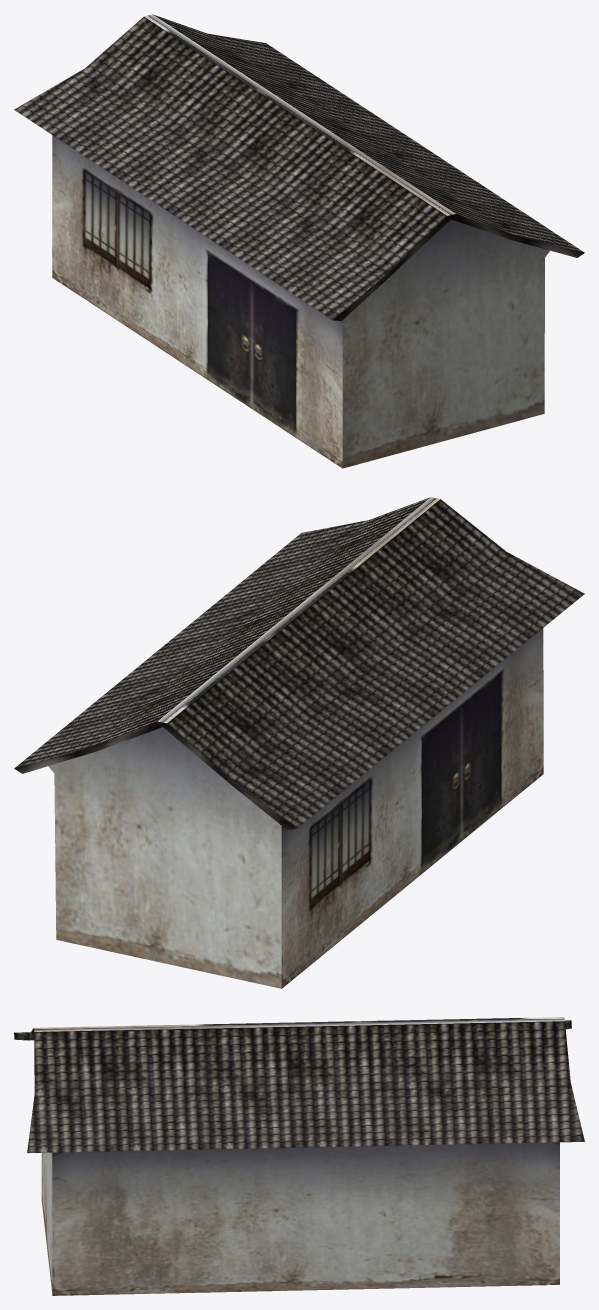
The model's file is ian1611.obj.
3 views of the same model, one above another, from view 1: azimuth 30°, elevation 25°; view 2: azimuth 150°, elevation 25°; view 3: azimuth 270°, elevation 25° (orthographic). The views are drawn at different scales.
Parts seen in each view (by area): view 1: ian1611; view 2: ian1611; view 3: ian1611.
Boxes of the visible parts, bbox=[...] form: ian1611: bbox=[14, 14, 584, 468]; ian1611: bbox=[14, 497, 584, 988]; ian1611: bbox=[14, 1017, 584, 1295].
Size of the model in its own units: 127 by 99.21 by 235.
